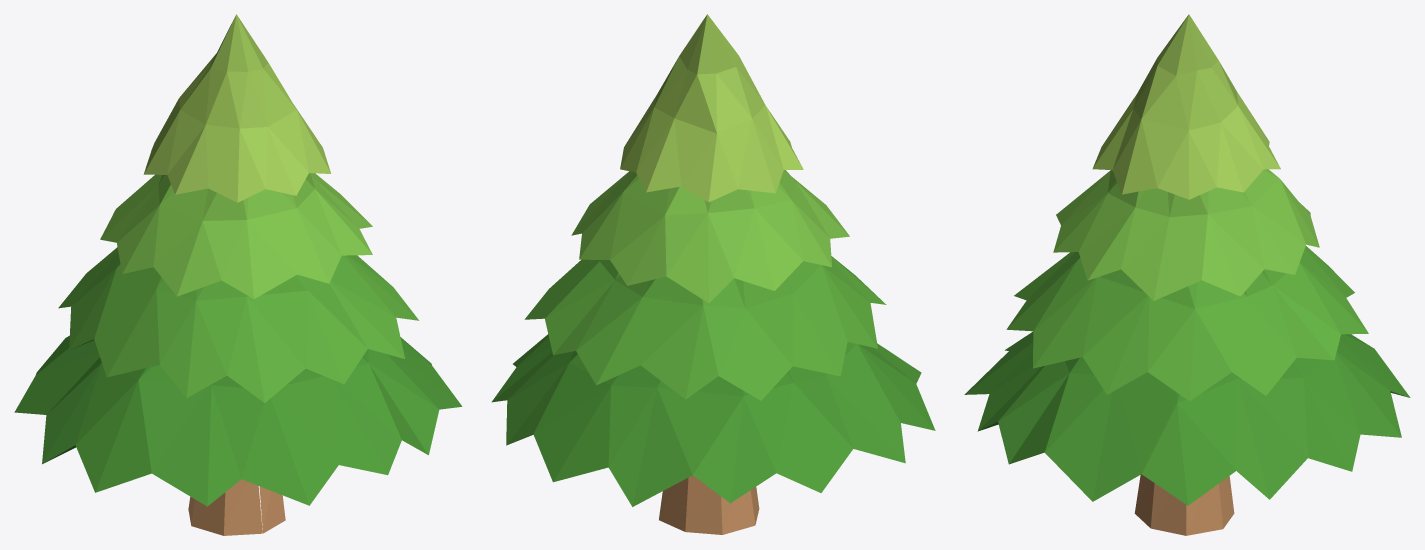
Rendered from pine.glb.
The picture shows the model from 3 angles, left to right: view 1: azimuth 30°, elevation 25°; view 2: azimuth 150°, elevation 25°; view 3: azimuth 270°, elevation 25°; orthographic projection.
Parts seen in each view (by area): view 1: tier_1_bottom, tier_2, tier_3, tier_4_top, trunk; view 2: tier_1_bottom, tier_2, tier_3, tier_4_top, trunk; view 3: tier_1_bottom, tier_2, tier_3, tier_4_top, trunk.
Boxes of the visible parts, bbox=[...] form: tier_1_bottom: bbox=[14, 335, 462, 506]; tier_2: bbox=[58, 247, 419, 402]; tier_3: bbox=[100, 173, 372, 298]; tier_4_top: bbox=[143, 14, 330, 202]; trunk: bbox=[188, 479, 285, 535]; tier_1_bottom: bbox=[492, 334, 935, 506]; tier_2: bbox=[524, 256, 886, 400]; tier_3: bbox=[571, 170, 849, 302]; tier_4_top: bbox=[620, 14, 803, 202]; trunk: bbox=[659, 475, 759, 534]; tier_1_bottom: bbox=[964, 331, 1410, 505]; tier_2: bbox=[1006, 246, 1368, 401]; tier_3: bbox=[1053, 169, 1319, 300]; tier_4_top: bbox=[1092, 14, 1280, 199]; trunk: bbox=[1134, 474, 1234, 535].
Size of the model in its own units: 2.86 by 3.5 by 2.83.
